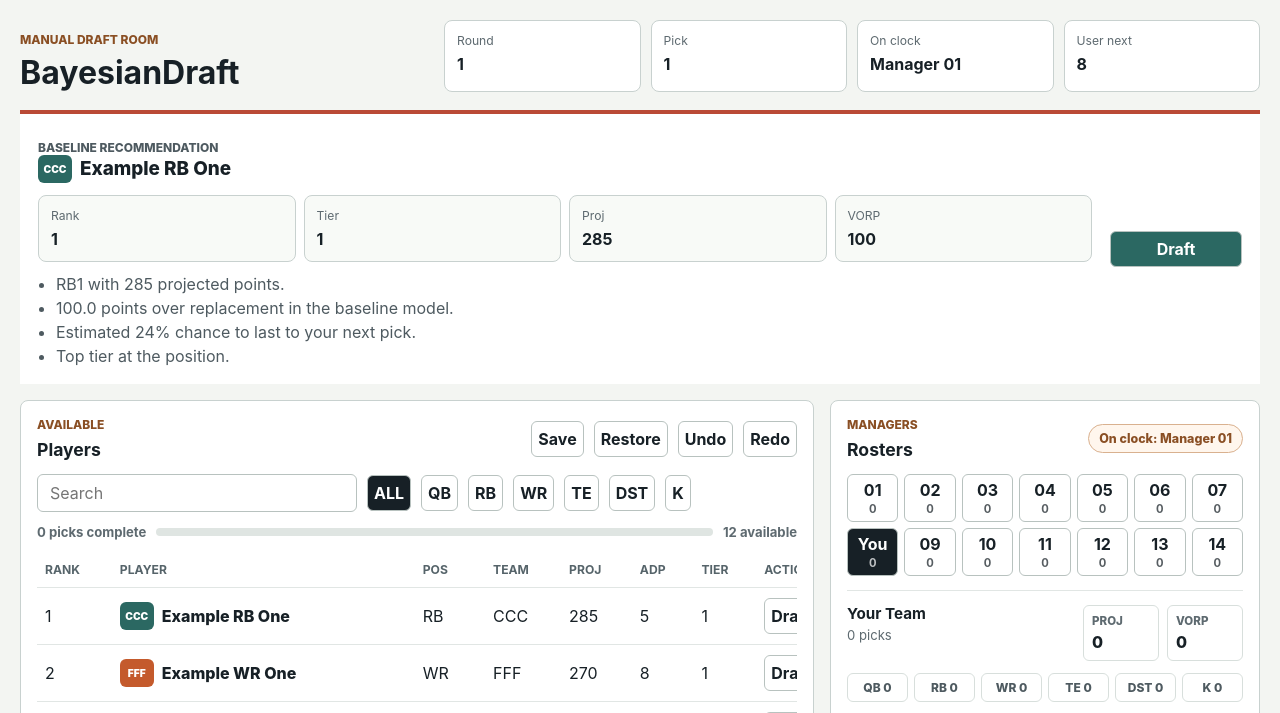
Test: App › shows competitor roster tabs with team badges
Step 1. Click the 1st button "Draft" → click(1176, 249), box x1=1110 y1=231 x2=1242 y2=267
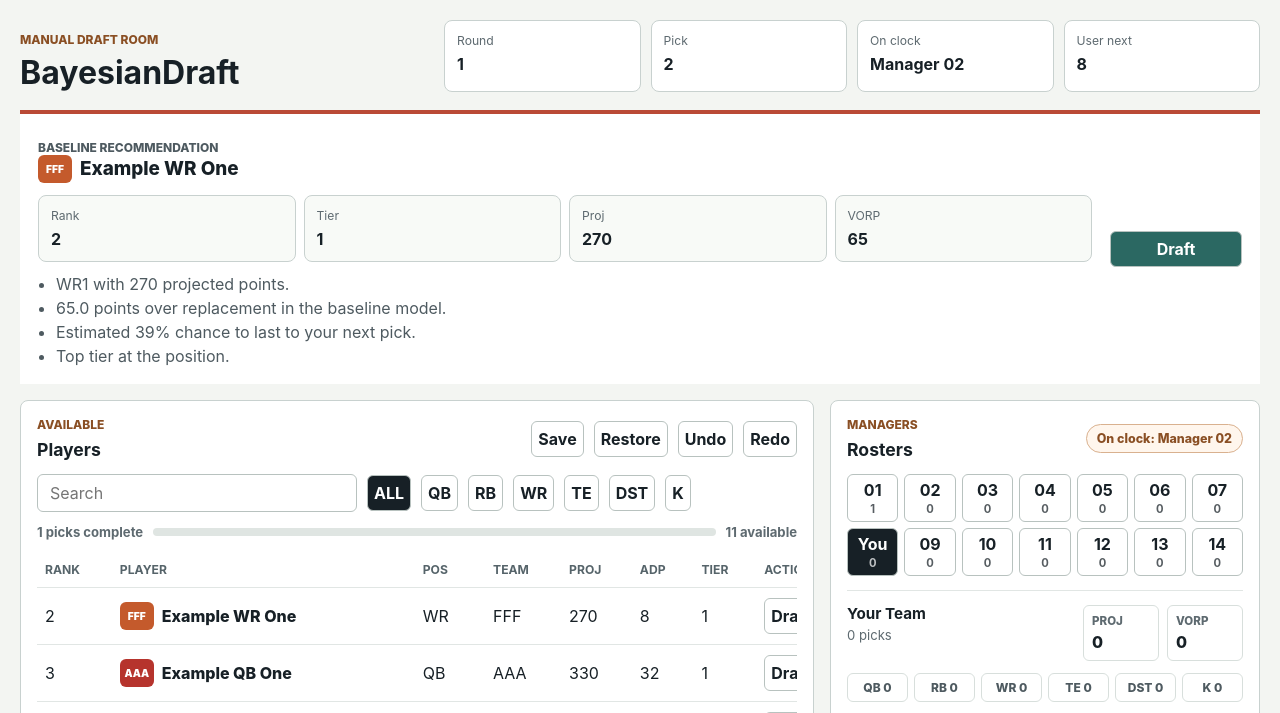
Step 2. Click the button "01 1" → click(873, 498), box x1=847 y1=474 x2=898 y2=522
(page scrolled)
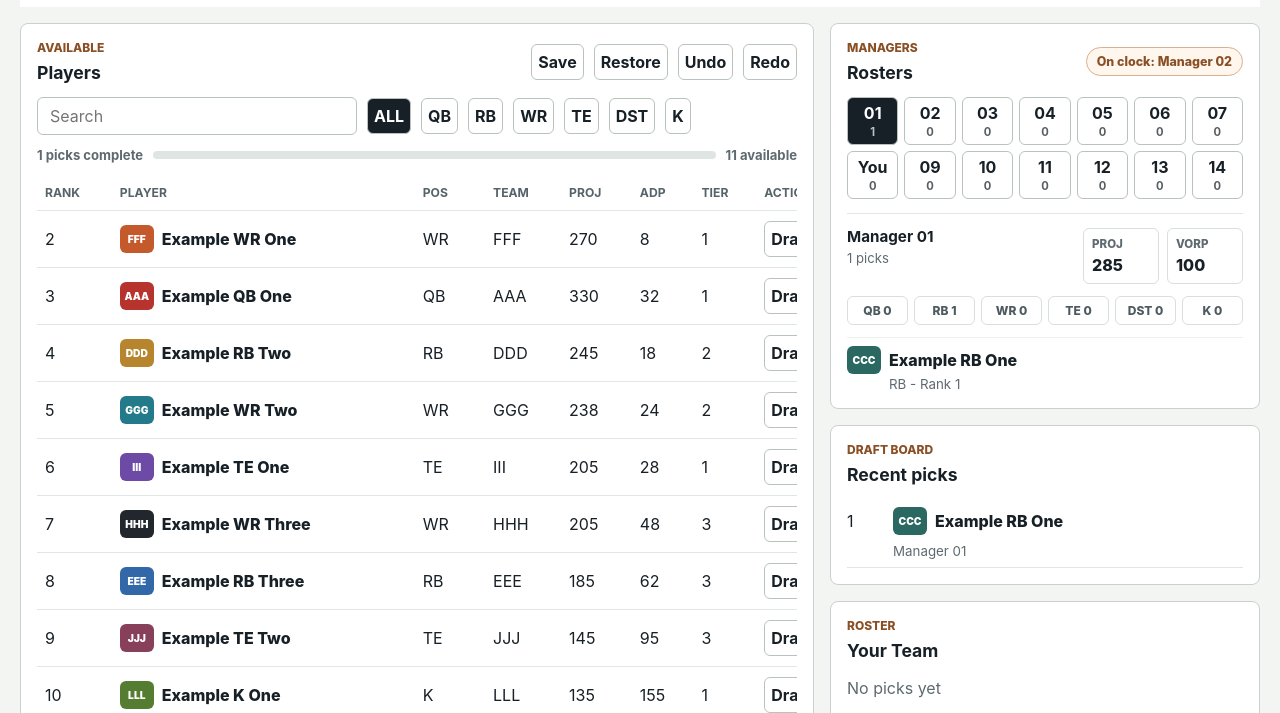
Expected: the heading "Rosters" is shown, x1=847 y1=63 x2=918 y2=83
Expected: the heading "Manager 01" is shown, x1=847 y1=227 x2=934 y2=246
Expected: the text "CCC" below "285" is shown, x1=852 y1=354 x2=876 y2=366
